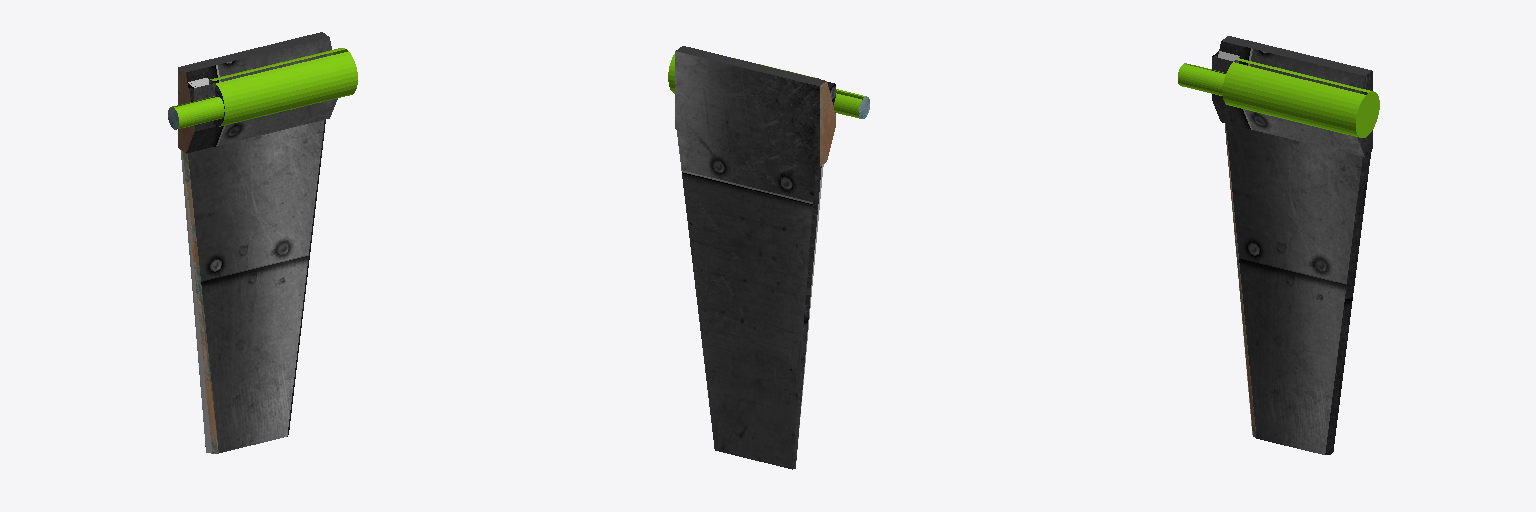
3 renders of one model, left to right at view 1: azimuth 30°, elevation 25°; view 2: azimuth 150°, elevation 25°; view 3: azimuth 330°, elevation 25°, orthographic.
Parts seen in each view (by area): view 1: Cube.002; view 2: Cube.002; view 3: Cube.002.
Part boxes in pixels (x1,y1,x2,y2): Cube.002: (168,32,357,453); Cube.002: (668,46,869,469); Cube.002: (1178,36,1379,454).
Size of the model in its own units: 4.32 by 8.99 by 1.1.
Materials: 7 (4 with a texture image).